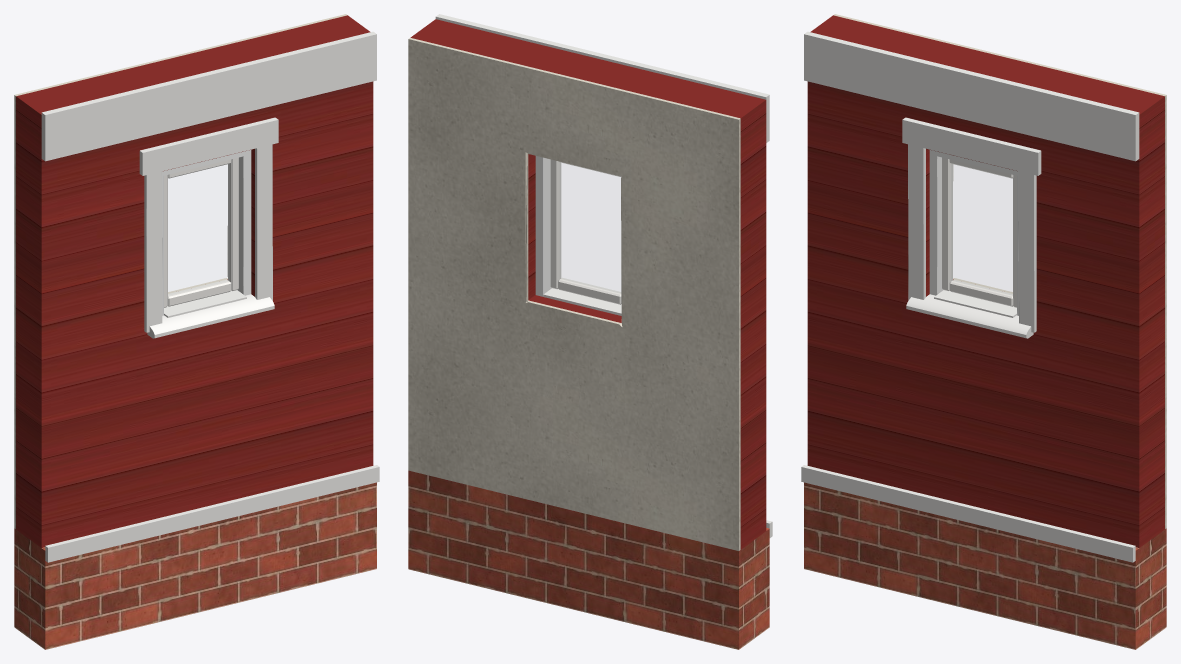
Rendered from vest_side.glb.
The picture shows the model from 3 angles, left to right: view 1: azimuth 30°, elevation 25°; view 2: azimuth 150°, elevation 25°; view 3: azimuth 330°, elevation 25°; orthographic projection.
Parts seen in each view (by area): view 1: vest_side_siding, vest_side_trim, vest_side_brick, vest_side_glass, vest_side_sash, vest_side_frame, vest_side_plaster; view 2: vest_side_plaster, vest_side_brick, vest_side_siding, vest_side_glass, vest_side_trim, vest_side_sash, vest_side_frame; view 3: vest_side_siding, vest_side_trim, vest_side_brick, vest_side_glass, vest_side_sash, vest_side_frame, vest_side_plaster.
Part boxes in pixels (left/top/right/bottom): vest_side_siding: left=16, top=15, right=373, bottom=547; vest_side_trim: left=41, top=31, right=379, bottom=562; vest_side_brick: left=14, top=482, right=376, bottom=649; vest_side_glass: left=168, top=164, right=228, bottom=294; vest_side_sash: left=164, top=157, right=238, bottom=307; vest_side_frame: left=162, top=150, right=251, bottom=315; vest_side_plaster: left=14, top=14, right=347, bottom=528; vest_side_plaster: left=408, top=37, right=740, bottom=550; vest_side_brick: left=408, top=470, right=769, bottom=649; vest_side_siding: left=410, top=19, right=766, bottom=549; vest_side_glass: left=560, top=163, right=620, bottom=292; vest_side_trim: left=435, top=14, right=772, bottom=537; vest_side_sash: left=550, top=159, right=621, bottom=304; vest_side_frame: left=535, top=156, right=551, bottom=296; vest_side_siding: left=807, top=15, right=1164, bottom=547; vest_side_trim: left=801, top=31, right=1139, bottom=562; vest_side_brick: left=804, top=482, right=1166, bottom=649; vest_side_glass: left=952, top=164, right=1012, bottom=294; vest_side_sash: left=942, top=157, right=1016, bottom=307; vest_side_frame: left=929, top=150, right=1018, bottom=315; vest_side_plaster: left=833, top=14, right=1166, bottom=528.
Size of the model in its own units: 2.1 by 3.23 by 0.38.
7 materials, 3 textured.
